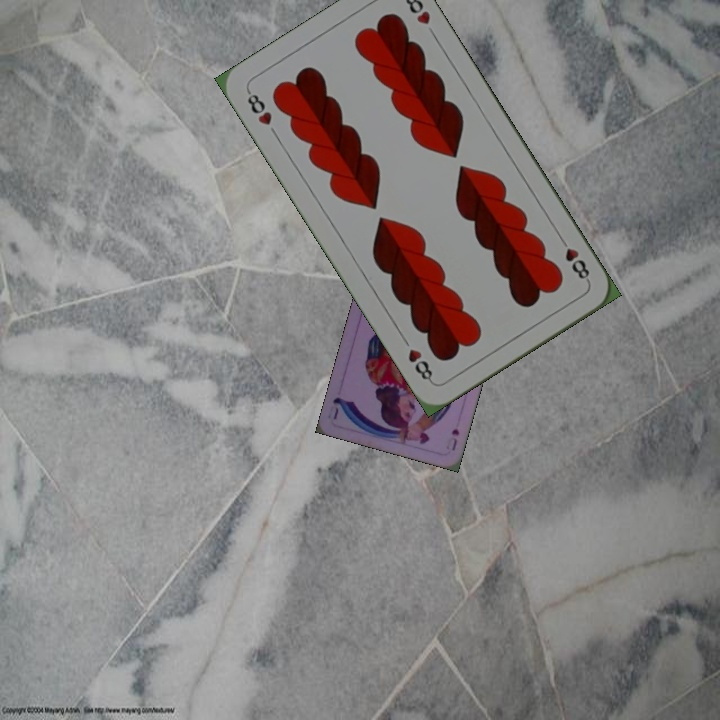H8: (555, 232, 593, 285), (243, 86, 275, 128)
SU: (444, 425, 462, 453)
